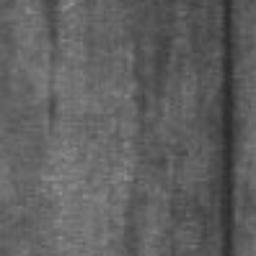Scratches: (223, 0, 236, 256)
